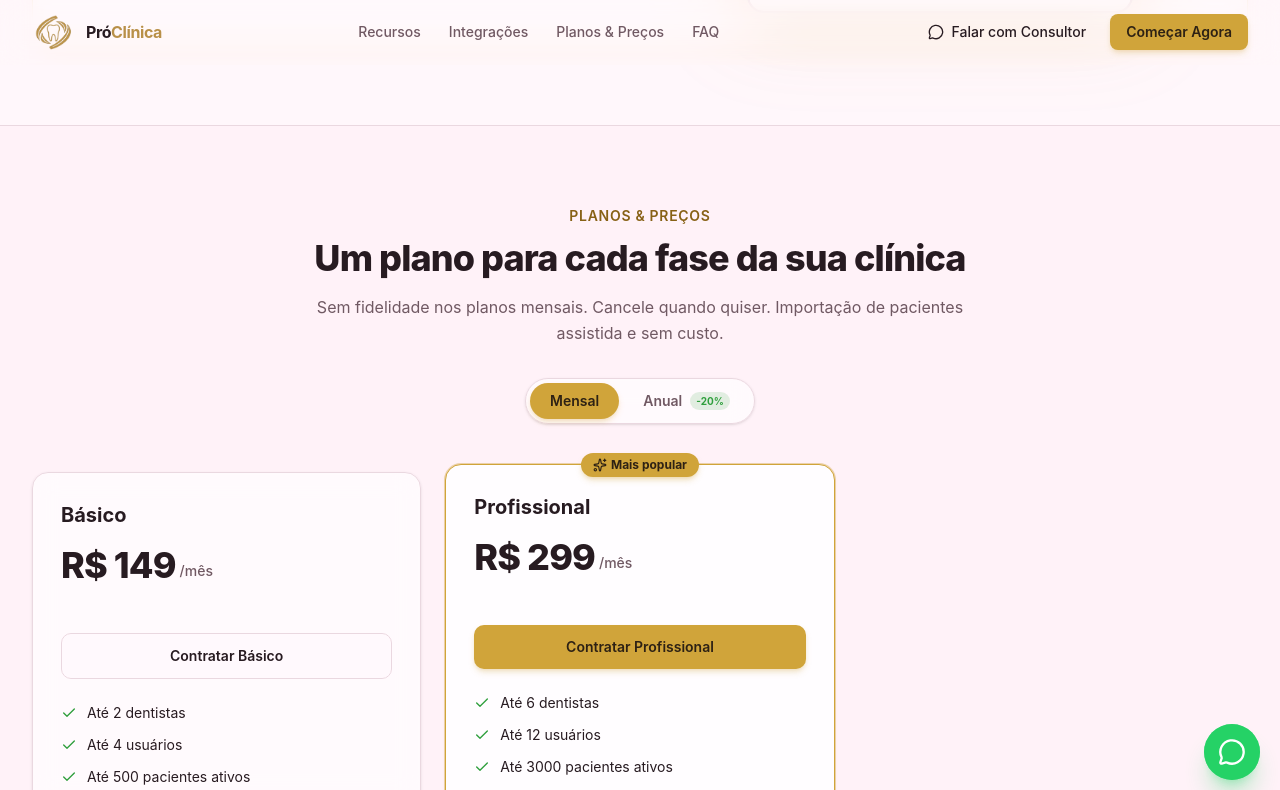
Test: Landing page — PaginaPublicaPlataforma › alterna entre mensal e anual mudando o preço exibido
(page scrolled)
Expected: the text "R$ 299" is shown, [474,537,595,577]
Click the button "Anual -20%" at {"x": 687, "y": 401}, box [623,383,750,419]
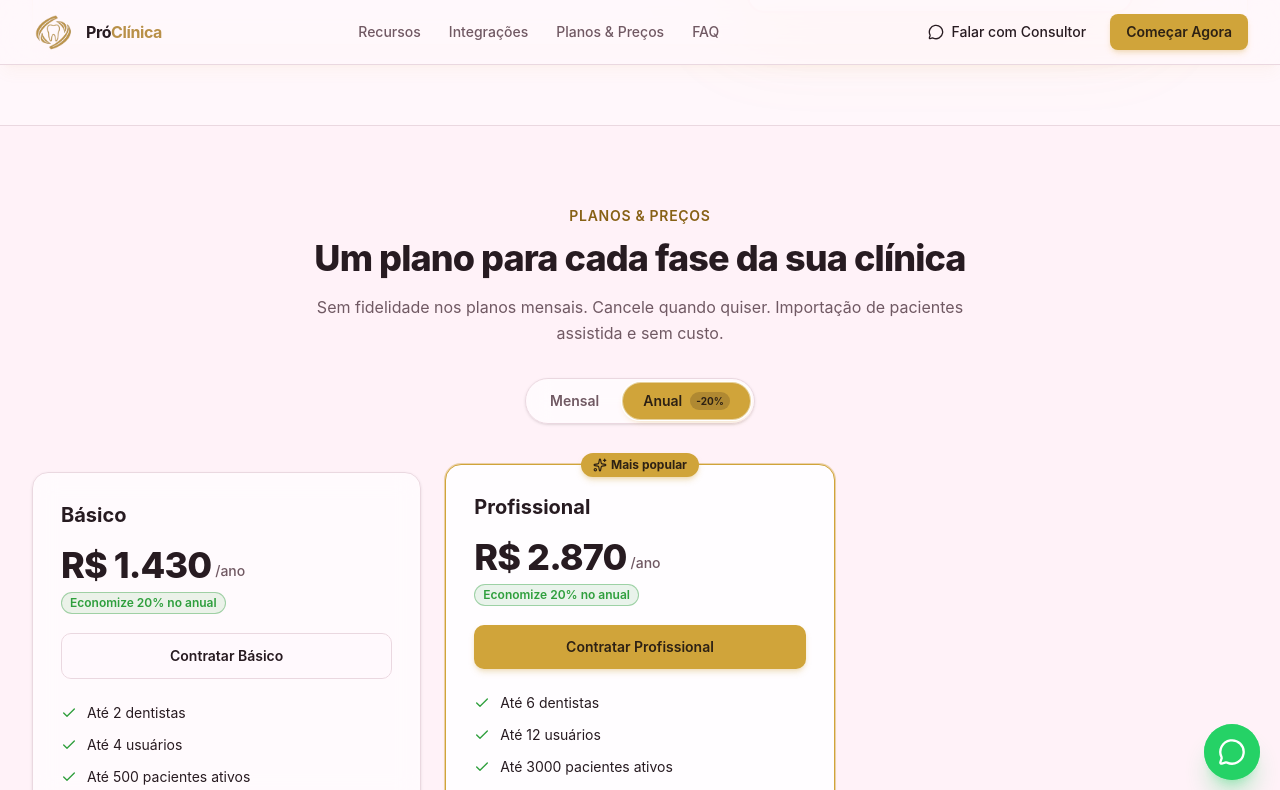
Expected: the text "R$ 2.870" is shown, [474,537,626,577]
Expected: the text "Economize 20% no anual" below "R$ 2.870" is shown, [483,587,550,602]
Expected: the text "R$ 299" is gone
